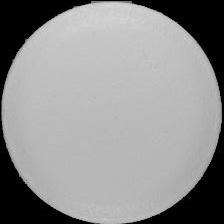52959-075: (0, 0, 224, 224)
